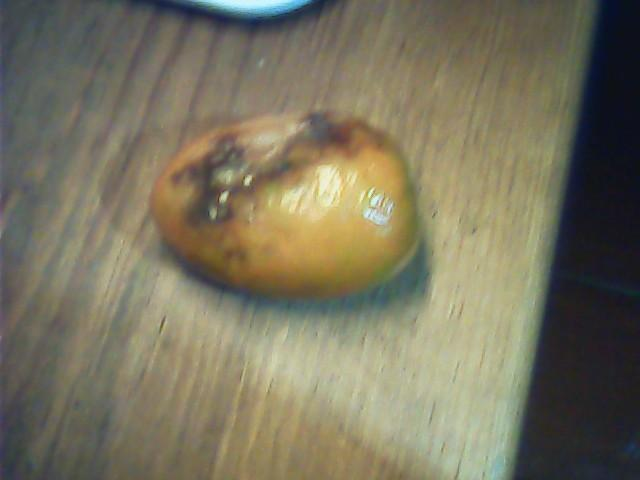defectuoso: (149, 110, 417, 301)
